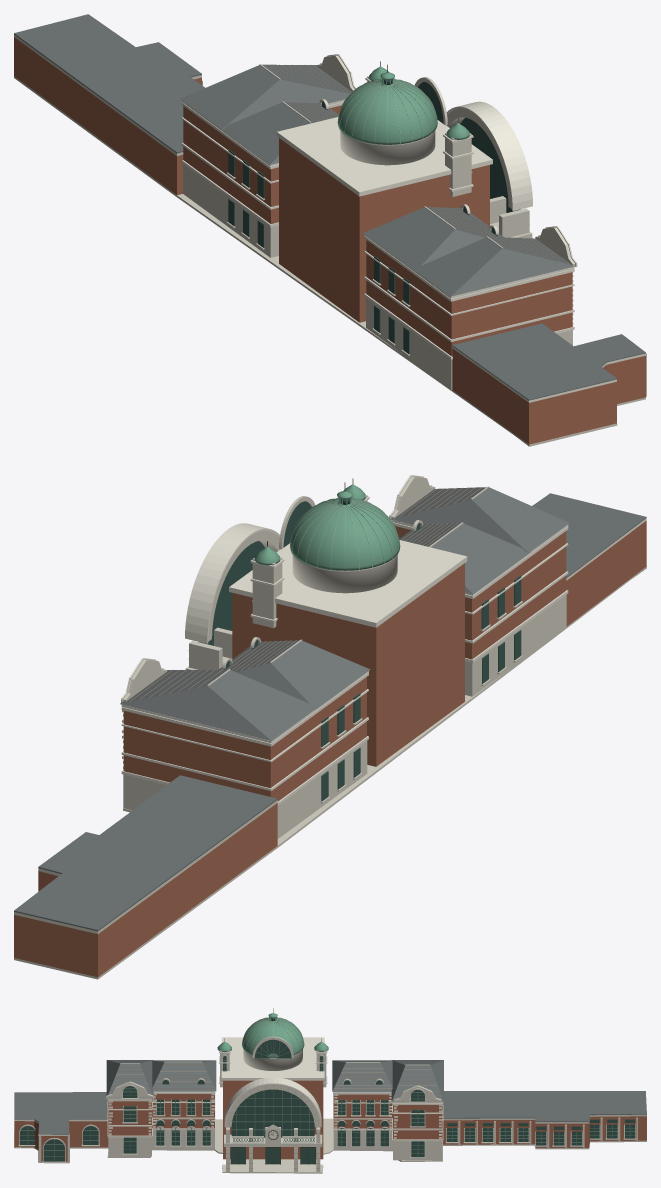
Rendered from bespoke-culture-station-seoul284.glb.
3 renders of one model, top to bottom at view 1: azimuth 30°, elevation 25°; view 2: azimuth 150°, elevation 25°; view 3: azimuth 270°, elevation 25°, orthographic. The views are drawn at different scales.
Visible parts, largest first — view 1: 02_Central_Arched_Entrance__Observed_warm_red_brick, 07_North_RTO_Annex__Grey_wing_roof_tiles, 04_South_Main_Wing__Grey_wing_roof_tiles, 04_South_Main_Wing__Observed_warm_red_brick, 05_North_Main_Wing__Grey_wing_roof_tiles, 02_Central_Arched_Entrance__Light_carved_stone_edges, 06_South_VIP_Annex__Observed_warm_red_brick, 06_South_VIP_Annex__Grey_wing_roof_tiles, 07_North_RTO_Annex__Observed_warm_red_brick, 03_Copper_Dome_Lantern__Observed_aged_copper_green, 05_North_Main_Wing__Observed_warm_red_brick, 03_Copper_Dome_Lantern__Observed_pale_granite_and_artificial (+10 smaller); view 2: 02_Central_Arched_Entrance__Observed_warm_red_brick, 07_North_RTO_Annex__Grey_wing_roof_tiles, 05_North_Main_Wing__Grey_wing_roof_tiles, 05_North_Main_Wing__Observed_warm_red_brick, 07_North_RTO_Annex__Observed_warm_red_brick, 02_Central_Arched_Entrance__Light_carved_stone_edges, 04_South_Main_Wing__Grey_wing_roof_tiles, 03_Copper_Dome_Lantern__Observed_aged_copper_green, 04_South_Main_Wing__Observed_warm_red_brick, 05_North_Main_Wing__Observed_pale_granite_and_artificial_sto, 03_Copper_Dome_Lantern__Observed_pale_granite_and_artificial, 05_North_Main_Wing__Light_carved_stone_edges (+11 smaller); view 3: 07_North_RTO_Annex__Grey_wing_roof_tiles, 02_Central_Arched_Entrance__Dark_green_window_glass, 05_North_Main_Wing__Grey_wing_roof_tiles, 04_South_Main_Wing__Grey_wing_roof_tiles, 02_Central_Arched_Entrance__Light_carved_stone_edges, 06_South_VIP_Annex__Grey_wing_roof_tiles, 01_Source_Footprint__Observed_pale_granite_and_artificial_st, 05_North_Main_Wing__Observed_warm_red_brick, 07_North_RTO_Annex__Observed_warm_red_brick, 04_South_Main_Wing__Observed_warm_red_brick, 02_Central_Arched_Entrance__Observed_pale_granite_and_artifi, 05_North_Main_Wing__Observed_pale_granite_and_artificial_sto (+25 smaller).
Boxes of the visible parts, bbox=[...] form: 02_Central_Arched_Entrance__Observed_warm_red_brick: bbox=[279, 138, 489, 322]; 07_North_RTO_Annex__Grey_wing_roof_tiles: bbox=[14, 14, 204, 153]; 04_South_Main_Wing__Grey_wing_roof_tiles: bbox=[363, 207, 575, 296]; 04_South_Main_Wing__Observed_warm_red_brick: bbox=[366, 240, 572, 356]; 05_North_Main_Wing__Grey_wing_roof_tiles: bbox=[180, 64, 351, 164]; 02_Central_Arched_Entrance__Light_carved_stone_edges: bbox=[276, 101, 532, 210]; 06_South_VIP_Annex__Observed_warm_red_brick: bbox=[452, 348, 645, 444]; 06_South_VIP_Annex__Grey_wing_roof_tiles: bbox=[452, 323, 645, 400]; 07_North_RTO_Annex__Observed_warm_red_brick: bbox=[14, 37, 201, 195]; 03_Copper_Dome_Lantern__Observed_aged_copper_green: bbox=[338, 66, 469, 144]; 05_North_Main_Wing__Observed_warm_red_brick: bbox=[183, 105, 341, 223]; 03_Copper_Dome_Lantern__Observed_pale_granite_and_artificial: bbox=[340, 76, 472, 196]; 02_Central_Arched_Entrance__Observed_warm_red_brick: bbox=[232, 563, 464, 766]; 07_North_RTO_Annex__Grey_wing_roof_tiles: bbox=[14, 775, 277, 931]; 05_North_Main_Wing__Grey_wing_roof_tiles: bbox=[120, 640, 370, 740]; 05_North_Main_Wing__Observed_warm_red_brick: bbox=[123, 677, 366, 801]; 07_North_RTO_Annex__Observed_warm_red_brick: bbox=[14, 803, 277, 977]; 02_Central_Arched_Entrance__Light_carved_stone_edges: bbox=[185, 523, 467, 643]; 04_South_Main_Wing__Grey_wing_roof_tiles: bbox=[391, 487, 569, 594]; 03_Copper_Dome_Lantern__Observed_aged_copper_green: bbox=[254, 484, 399, 570]; 04_South_Main_Wing__Observed_warm_red_brick: bbox=[395, 526, 566, 659]; 05_North_Main_Wing__Observed_pale_granite_and_artificial_sto: bbox=[123, 637, 367, 838]; 03_Copper_Dome_Lantern__Observed_pale_granite_and_artificial: bbox=[252, 495, 397, 628]; 05_North_Main_Wing__Light_carved_stone_edges: bbox=[121, 658, 368, 805]; 07_North_RTO_Annex__Grey_wing_roof_tiles: bbox=[443, 1091, 646, 1121]; 02_Central_Arched_Entrance__Dark_green_window_glass: bbox=[231, 1089, 315, 1164]; 05_North_Main_Wing__Grey_wing_roof_tiles: bbox=[332, 1060, 443, 1101]; 04_South_Main_Wing__Grey_wing_roof_tiles: bbox=[106, 1060, 216, 1098]; 02_Central_Arched_Entrance__Light_carved_stone_edges: bbox=[221, 1037, 324, 1143]; 06_South_VIP_Annex__Grey_wing_roof_tiles: bbox=[14, 1092, 107, 1134]; 01_Source_Footprint__Observed_pale_granite_and_artificial_st: bbox=[14, 1118, 646, 1173]; 05_North_Main_Wing__Observed_warm_red_brick: bbox=[333, 1094, 442, 1139]; 07_North_RTO_Annex__Observed_warm_red_brick: bbox=[443, 1116, 646, 1147]; 04_South_Main_Wing__Observed_warm_red_brick: bbox=[108, 1094, 214, 1135]; 02_Central_Arched_Entrance__Observed_pale_granite_and_artifi: bbox=[224, 1084, 322, 1171]; 05_North_Main_Wing__Observed_pale_granite_and_artificial_sto: bbox=[333, 1062, 442, 1160].
Bounding box in the file's own units: 29.64 × 32.29 × 139.
